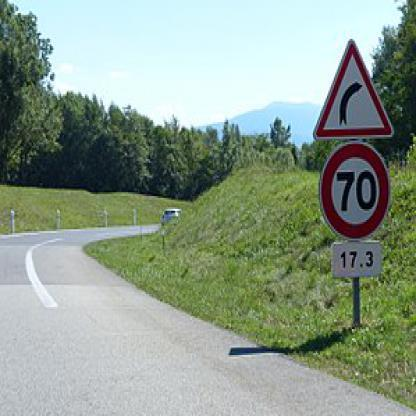Speed Limit 70: (318, 144, 388, 238)
